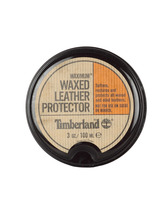other: (20, 42, 147, 171)
